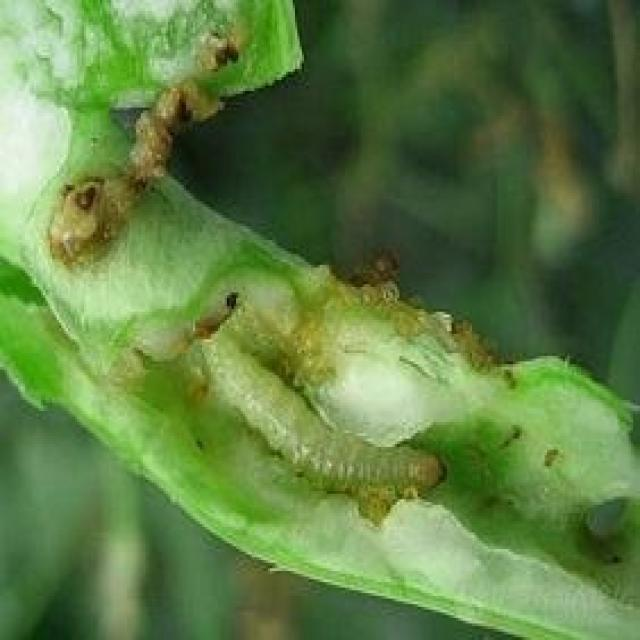peach borer: (195, 328, 447, 496)
